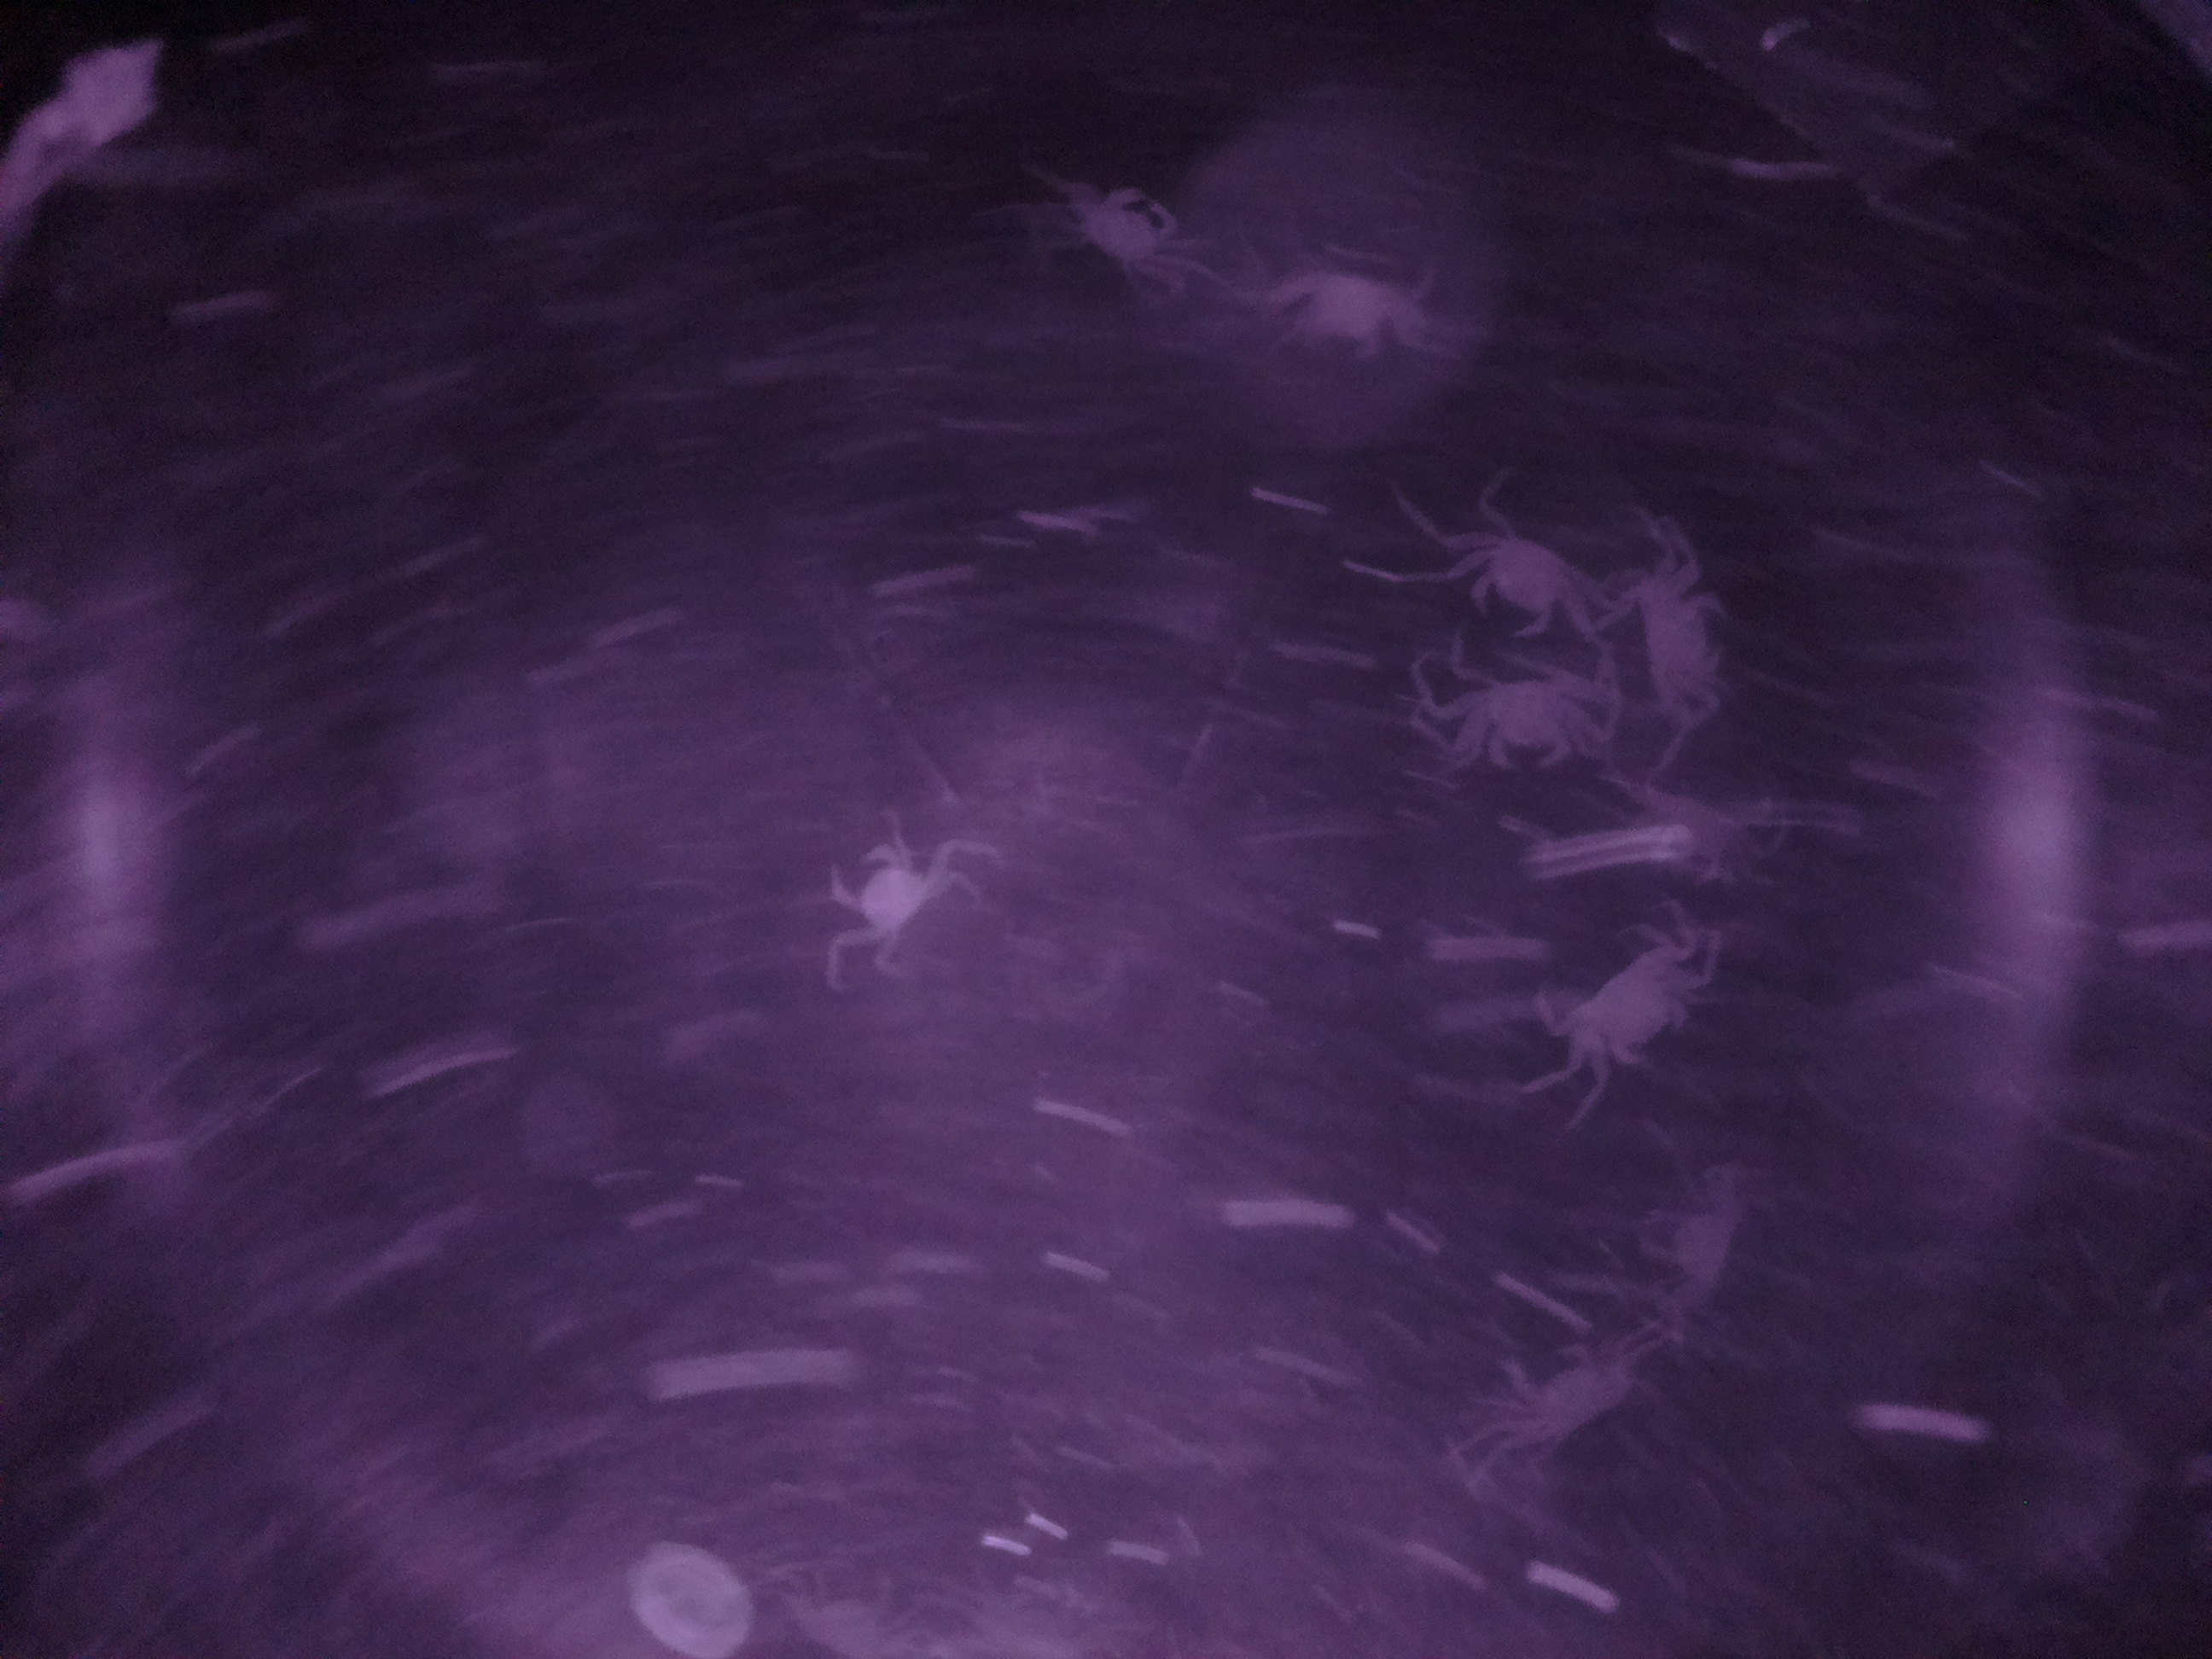Crab: (1545, 908, 1714, 1100), (1430, 498, 1608, 652), (1428, 662, 1604, 796)
